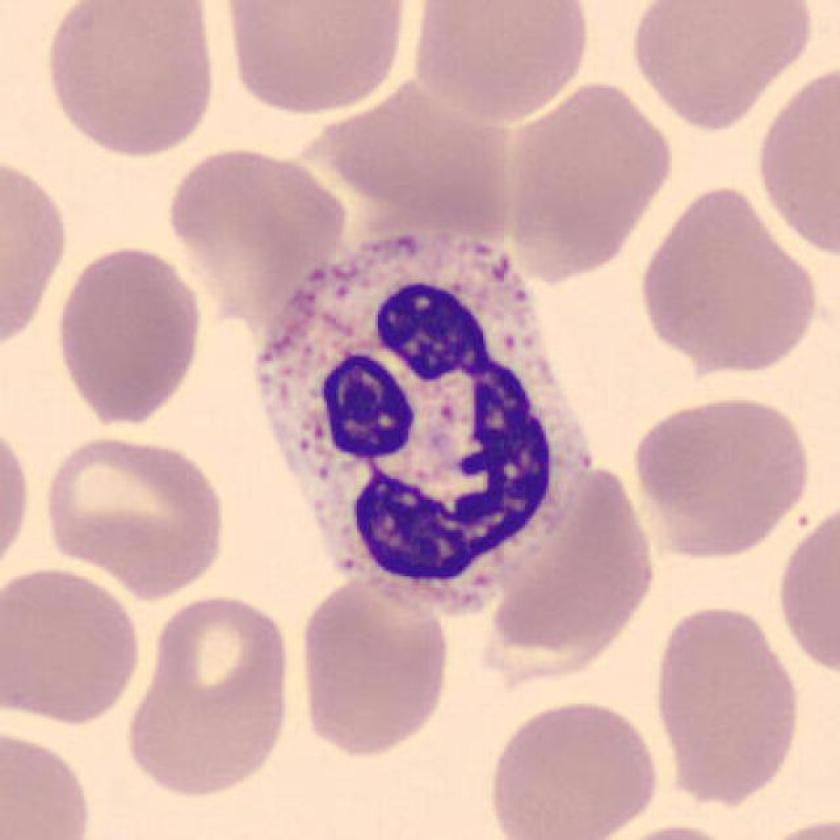neutrophil: (257, 237, 590, 615)
